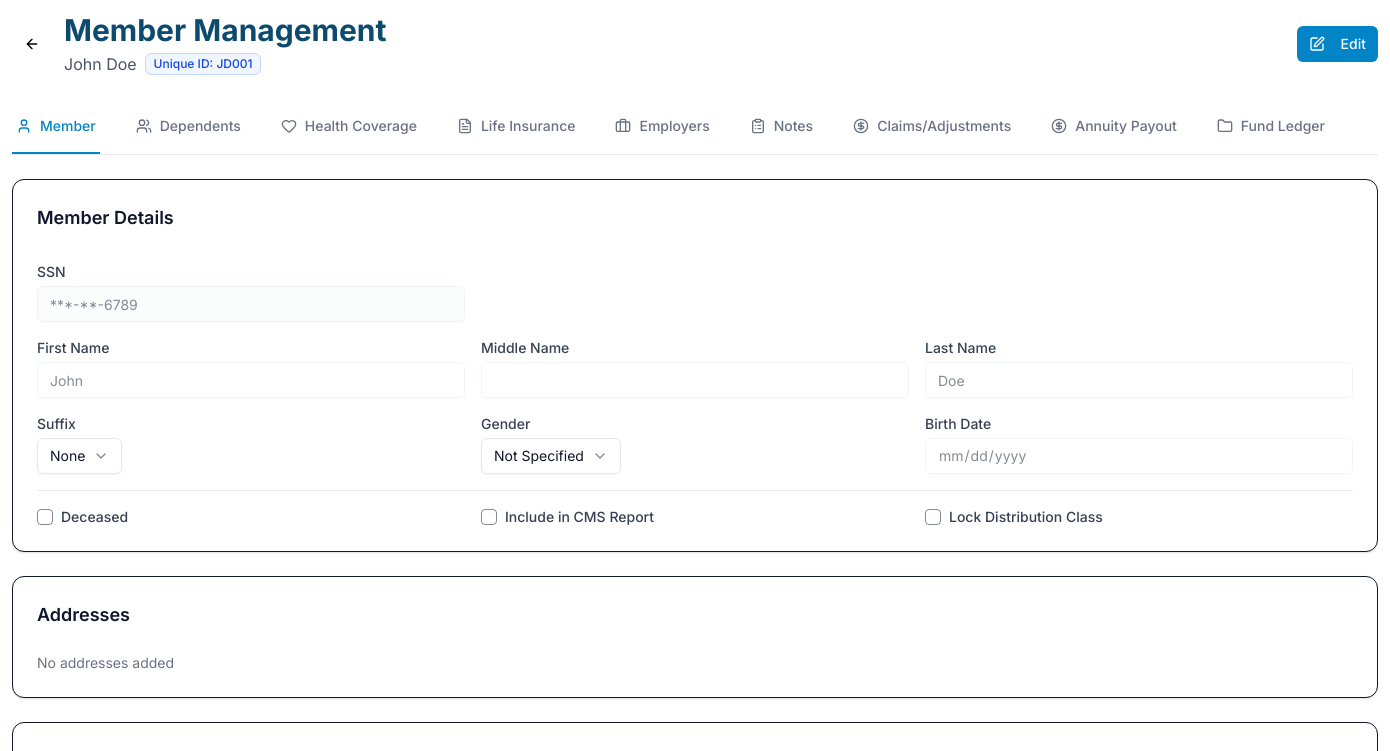
Member Detail Page - Annuity Payout Tab Integration › displays annuity account balance when on annuity payout tab
Check: the heading "Member Management" is shown, box [64,12,386,48]
# Click the Annuity Payout tab
What coordinates should you click on to do the following:
click the button "Annuity Payout"
I would click on:
 (1114, 127)
Its box is [1047,100,1181,154].
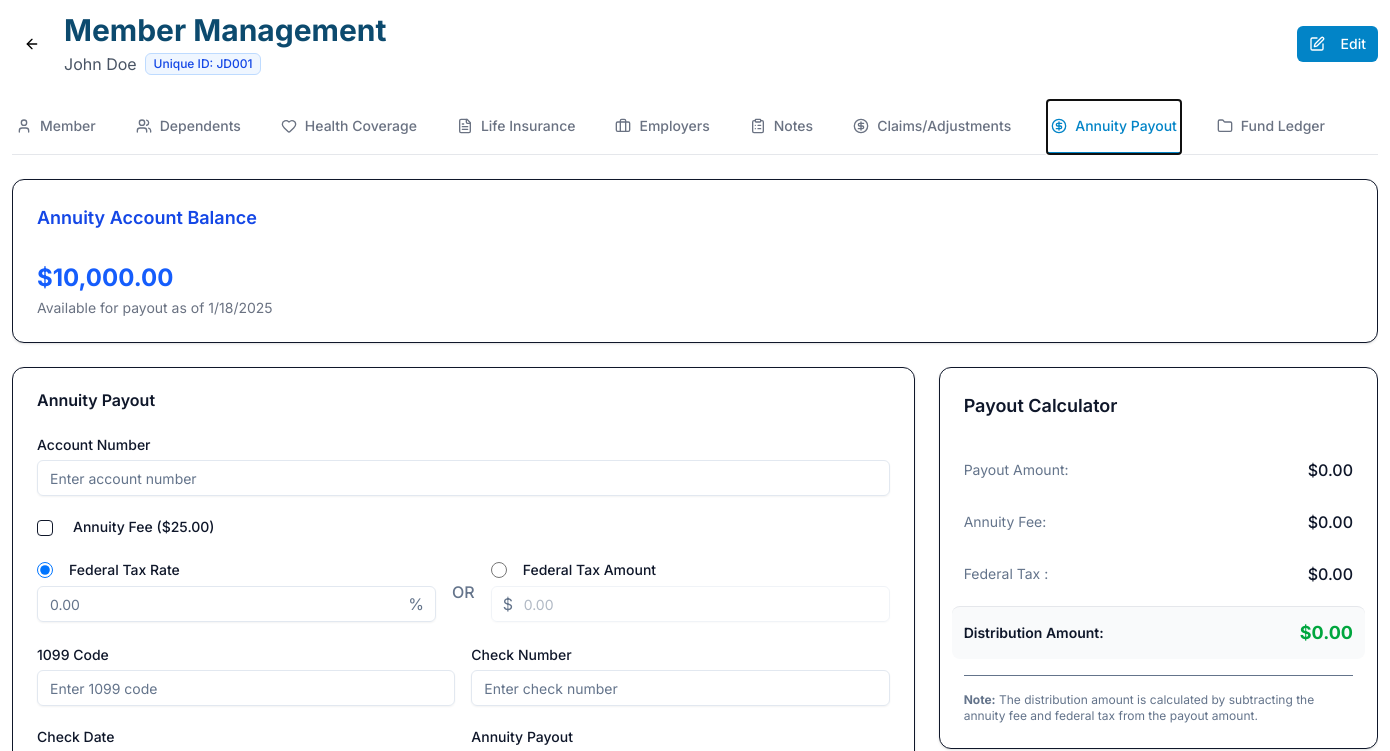
Check: the text "Annuity Account Balance" is shown, box [37,207,257,228]
Check: the text "$10,000.00" is shown, box [37,263,173,292]
Check: the text "Available for payout as of 1/18/2025" is shown, box [37,299,273,316]
